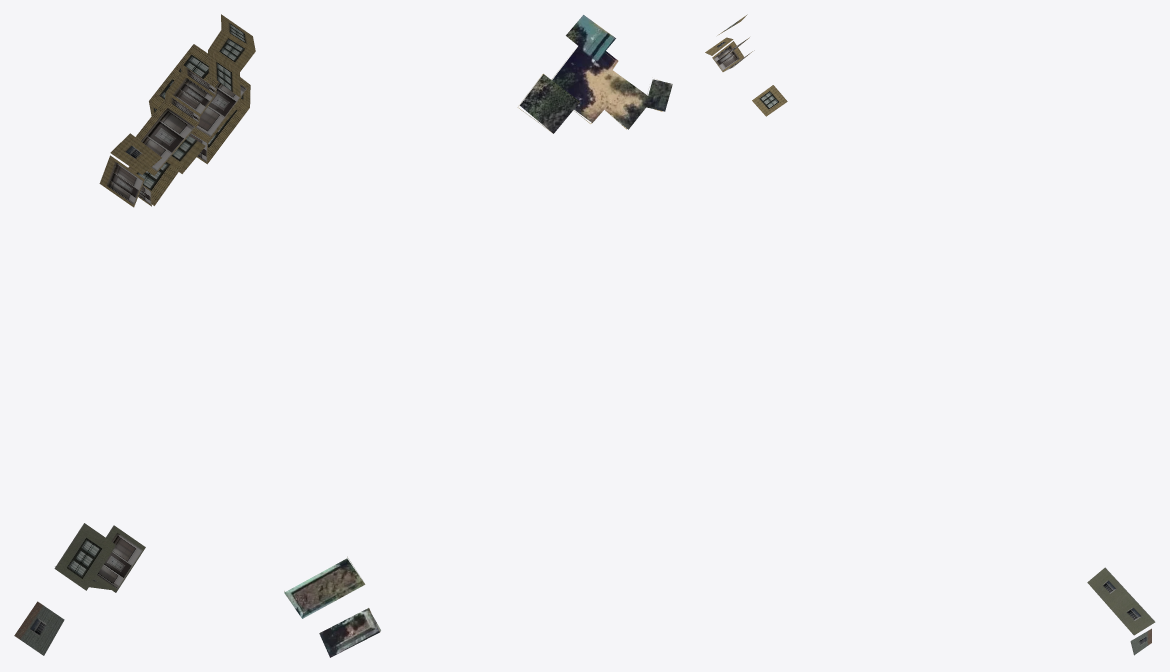
File: tile_LOD4_r8_c10.glb
The picture shows the model from 3 angles, left to right: view 1: azimuth 30°, elevation 25°; view 2: azimuth 150°, elevation 25°; view 3: azimuth 270°, elevation 25°; orthographic projection. The views are drawn at different scales.
Bounding box in the file's own units: 36.75 × 91.75 × 63.
Materials: 14 (14 with a texture image).
